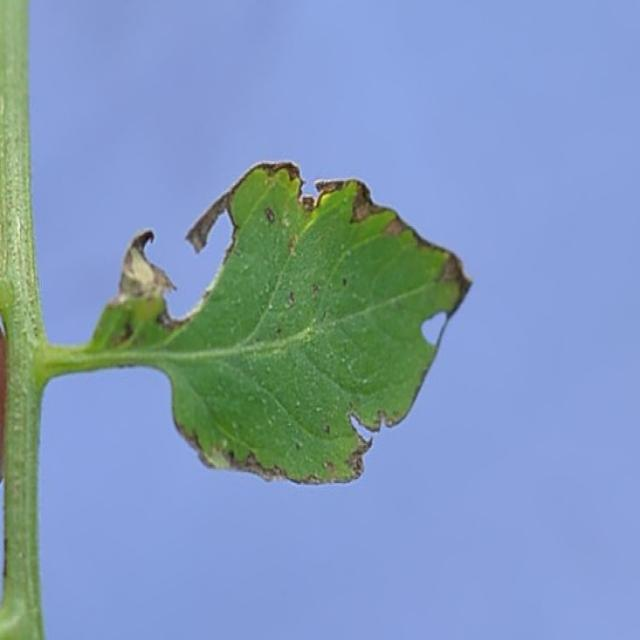infected: (112, 155, 475, 496)
